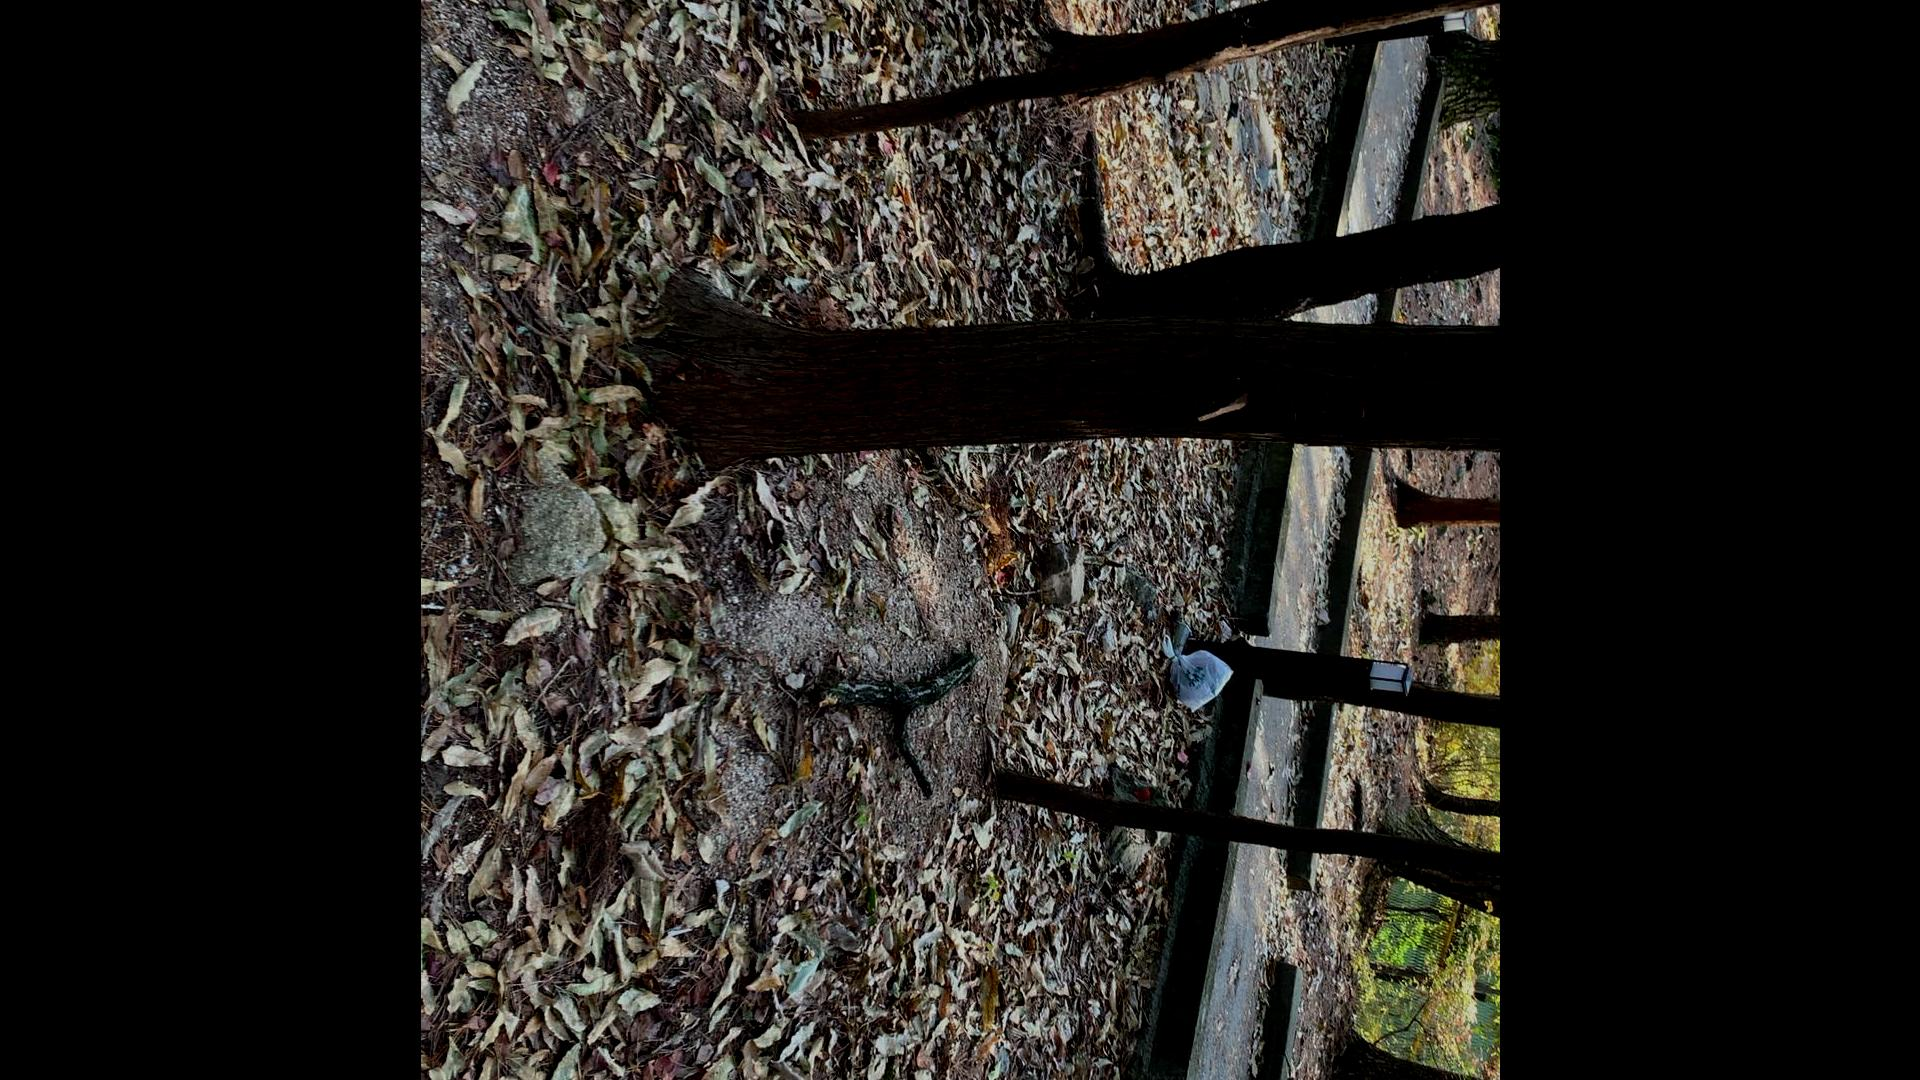white_bag: (1164, 644, 1238, 713)
